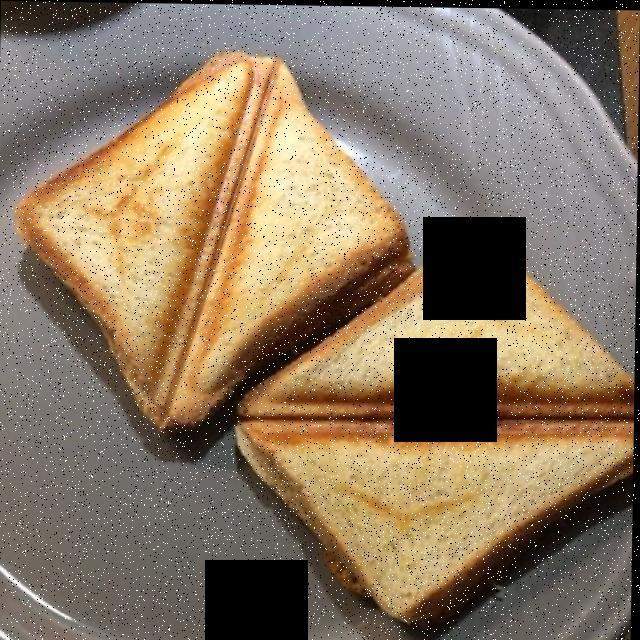bread: (22, 46, 606, 617)
